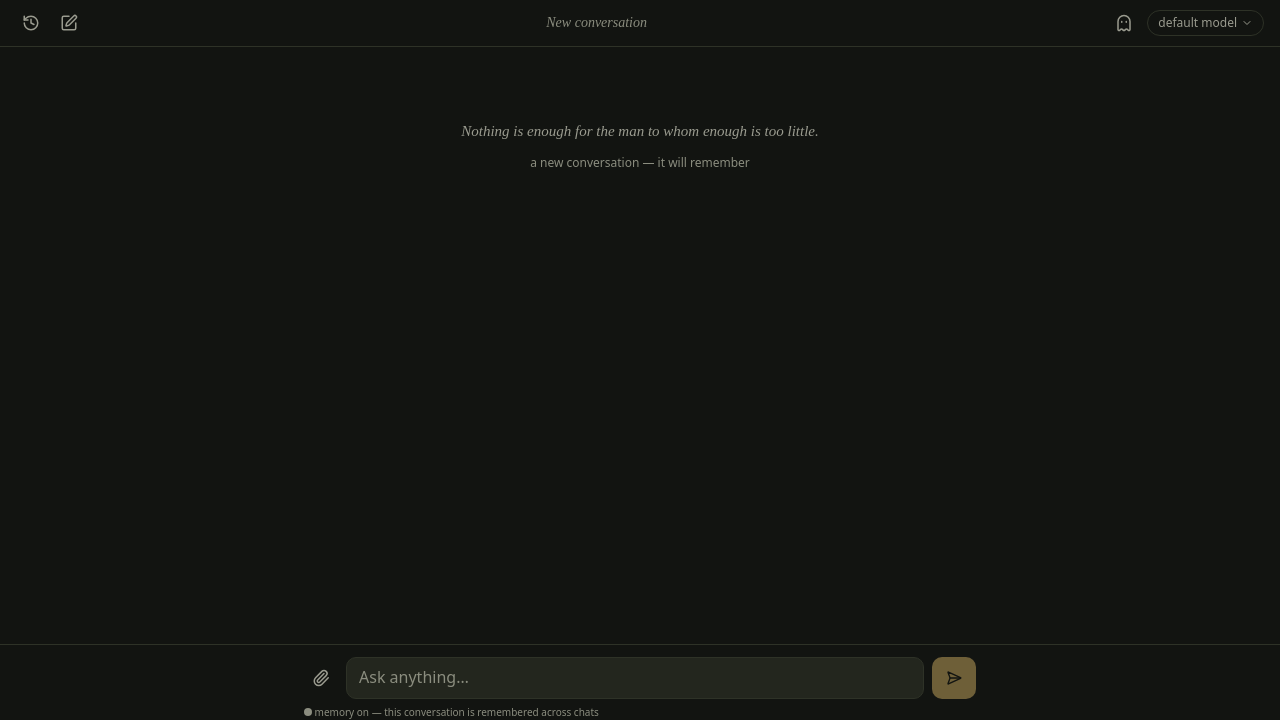
it: Conversations list running indicator (#396) › shows no indicator when nothing is running
The image size is (1280, 720).
Click the button named "Conversations" at (31, 23), box [16, 8, 46, 38]
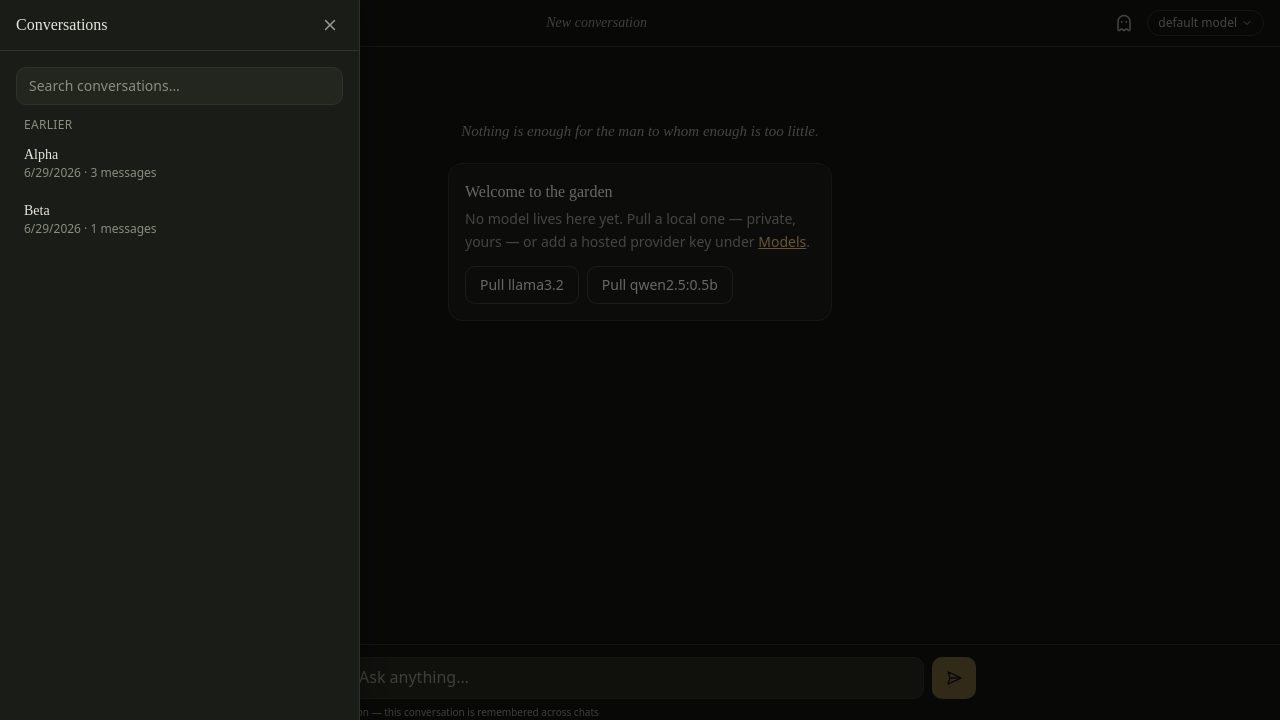
Check: the text "Alpha" is shown, box [24, 145, 58, 165]
